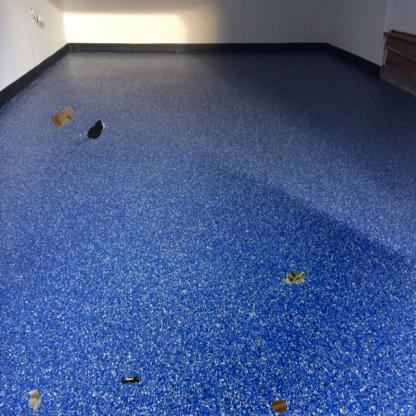dirty: (48, 104, 76, 131), (280, 268, 307, 286), (26, 388, 43, 416), (268, 398, 289, 415), (119, 374, 141, 386)
liquid: (86, 119, 107, 140), (72, 131, 92, 146)
